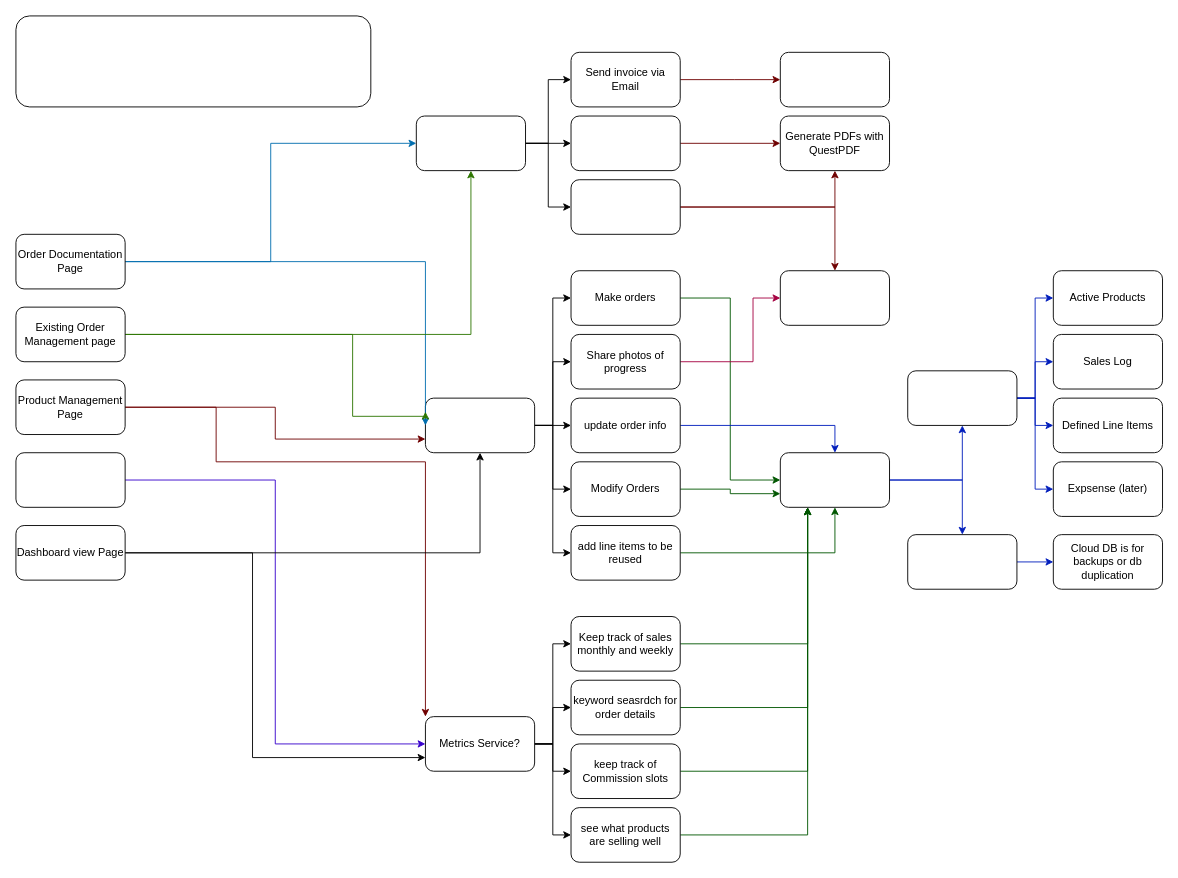
Image size: 1178x878. Some labels were removed from this diagram. The shapes that lost their labels are listed below. From the top down, each one's box as (x1, y1, x2, y2) in pixels, then its label:
(15, 15, 371, 107): Commision tracker app
(779, 51, 890, 107): Send Message via SMTP
(415, 115, 526, 171): Invoice Generation Service
(570, 115, 680, 171): Generate PDF invoice with choice of payment linked
(570, 179, 680, 234): Download Generated invoices
(779, 270, 890, 325): Store via s3 Bucket
(907, 370, 1017, 425): Interact with internal Db
(425, 397, 535, 453): Order management Service
(15, 452, 125, 507): Metrics View Page
(779, 452, 890, 507): Interact with database
(907, 534, 1017, 589): Intereact with Cloud Db
